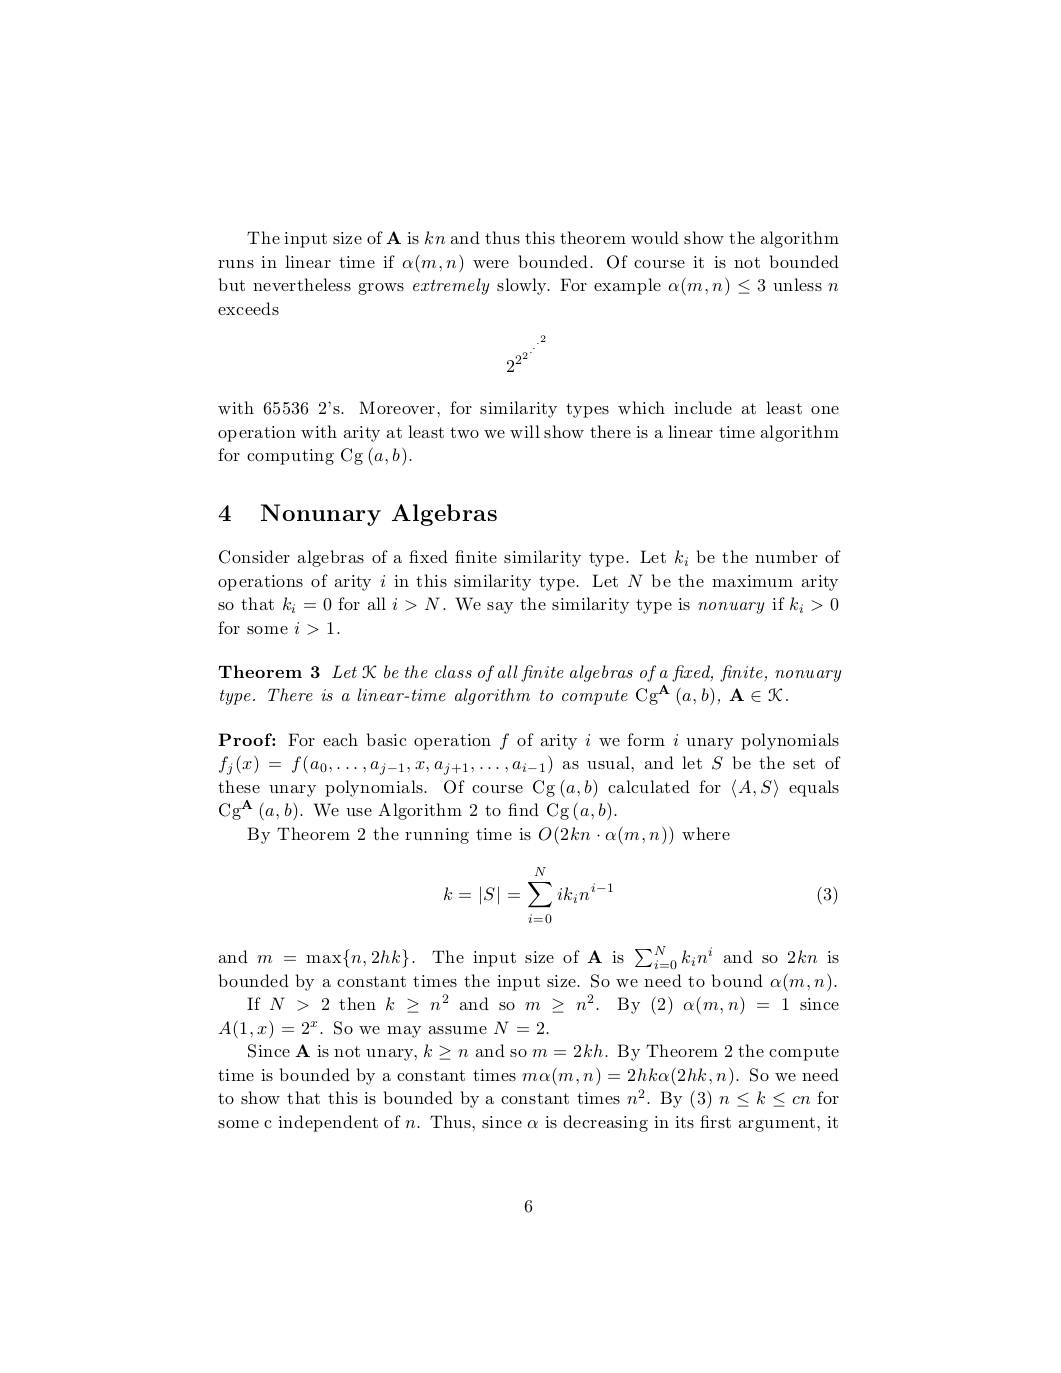figure: (507, 335, 545, 371)
formula: (444, 867, 837, 923)
